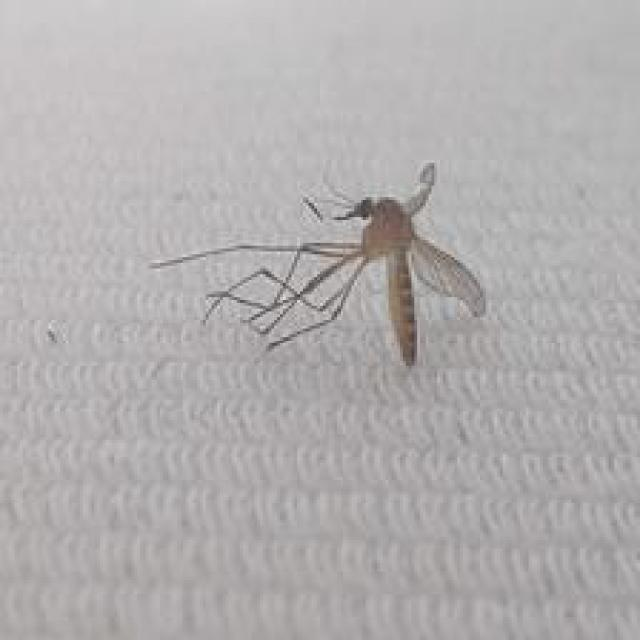Culex: (147, 160, 487, 369)
